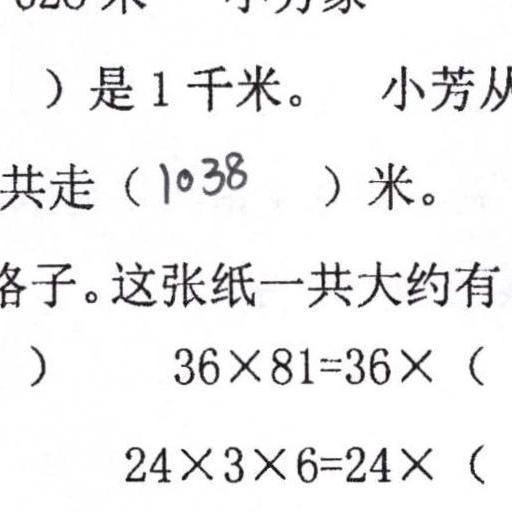ans: (156, 148, 252, 206)
